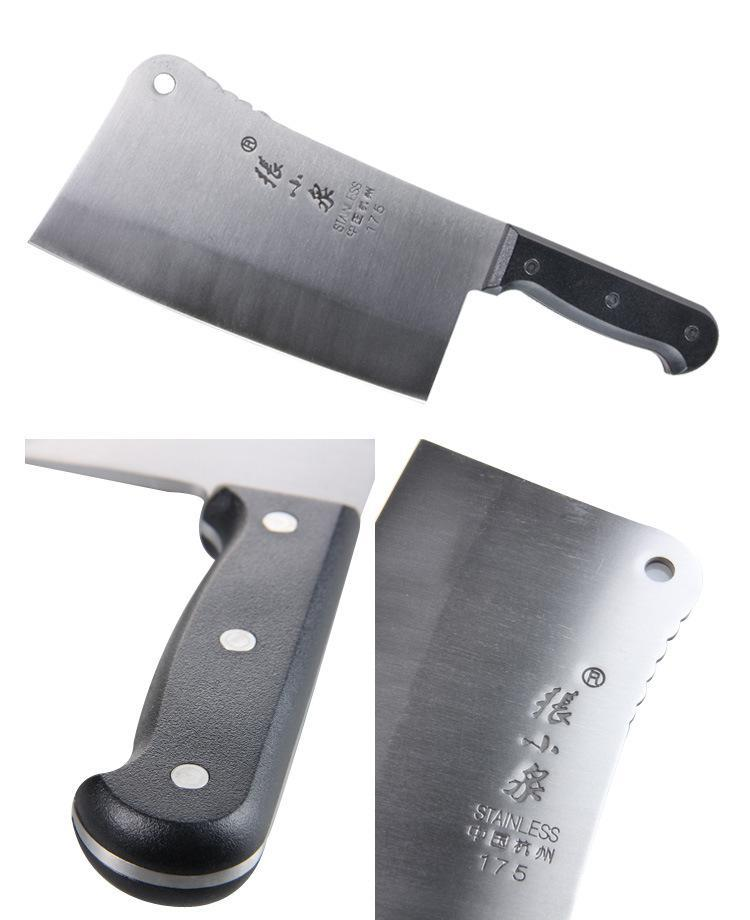knief: (44, 42, 729, 393)
